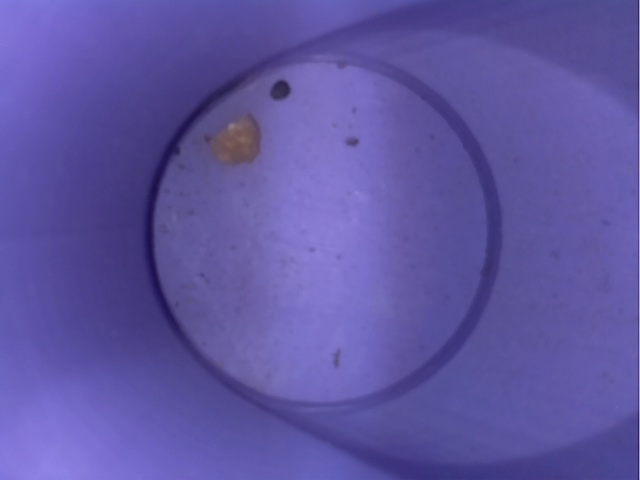caillou: (196, 109, 272, 170)
